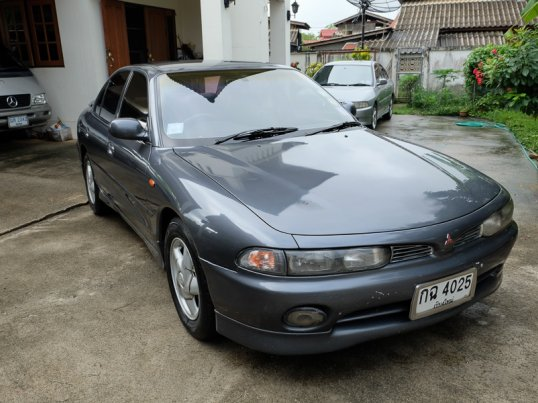sedan: (74, 58, 520, 356)
